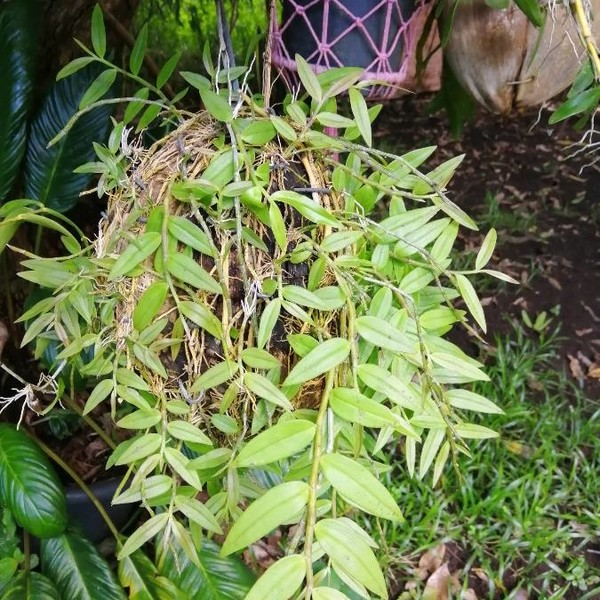obstacle: (81, 48, 476, 595)
